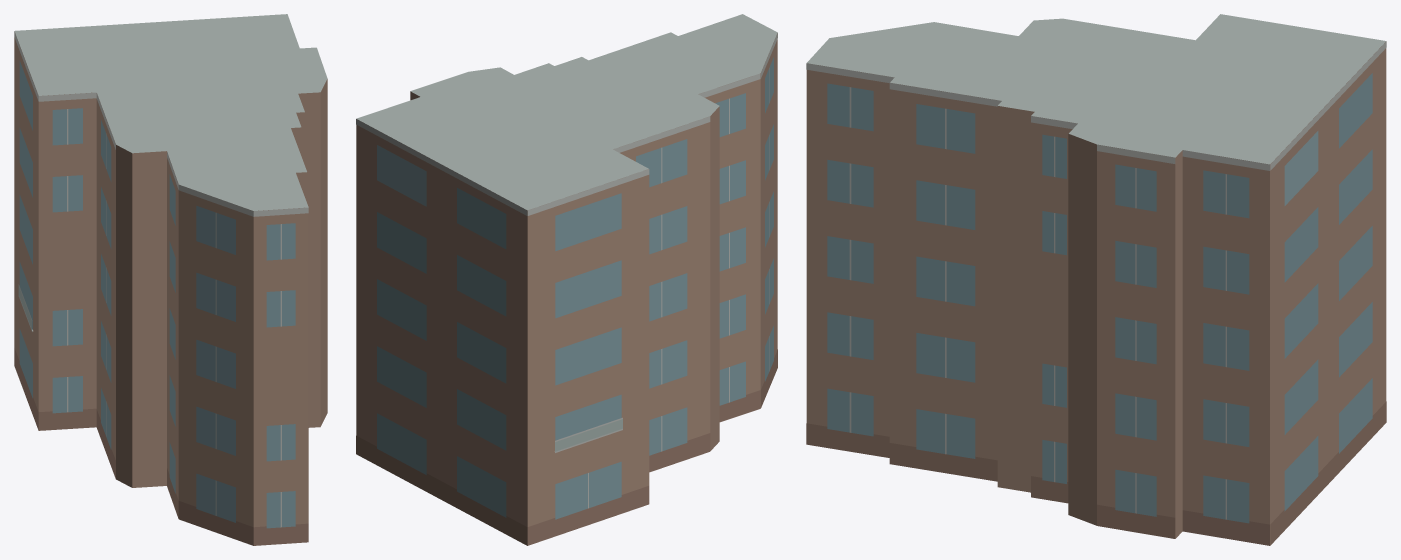
Rendered from survey-upis-32489181.glb.
3 renders of one model, left to right at view 1: azimuth 30°, elevation 25°; view 2: azimuth 150°, elevation 25°; view 3: azimuth 270°, elevation 25°, orthographic. The views are drawn at different scales.
Visible parts, largest first — view 1: survey-upis-32489181.tmp; view 2: survey-upis-32489181.tmp; view 3: survey-upis-32489181.tmp.
Boxes of the visible parts, x1=… form: survey-upis-32489181.tmp: x1=14, y1=14, x2=327, y2=545; survey-upis-32489181.tmp: x1=356, y1=14, x2=777, y2=545; survey-upis-32489181.tmp: x1=806, y1=14, x2=1386, y2=545.
Bounding box in the file's own units: 11.95 × 14.11 × 19.46.
